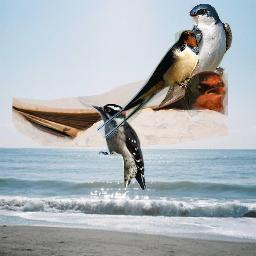Swallow: (12, 69, 228, 147), (97, 30, 199, 138), (158, 2, 233, 109)
Woodpecker: (91, 103, 147, 190)
